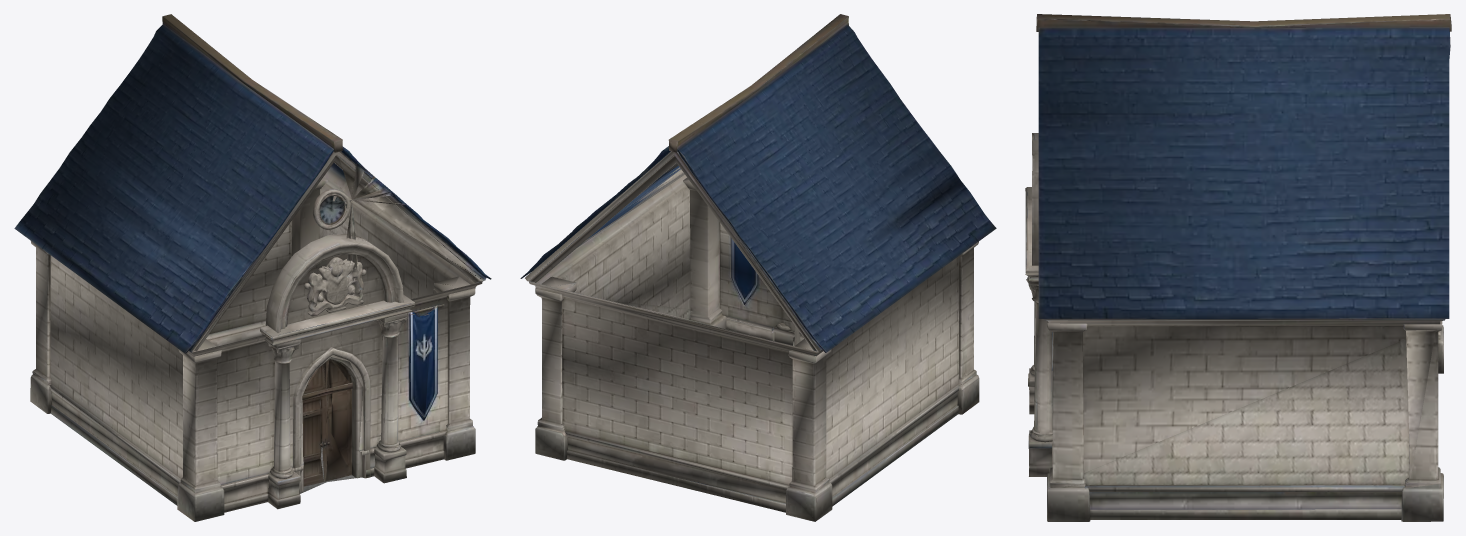
Rendered from registrar.glb.
The picture shows the model from 3 angles, left to right: view 1: azimuth 30°, elevation 25°; view 2: azimuth 150°, elevation 25°; view 3: azimuth 270°, elevation 25°; orthographic projection. The views are drawn at different scales.
Bounding box in the file's own units: 0.8745 × 0.9551 × 0.874.
1 material, 1 textured.
